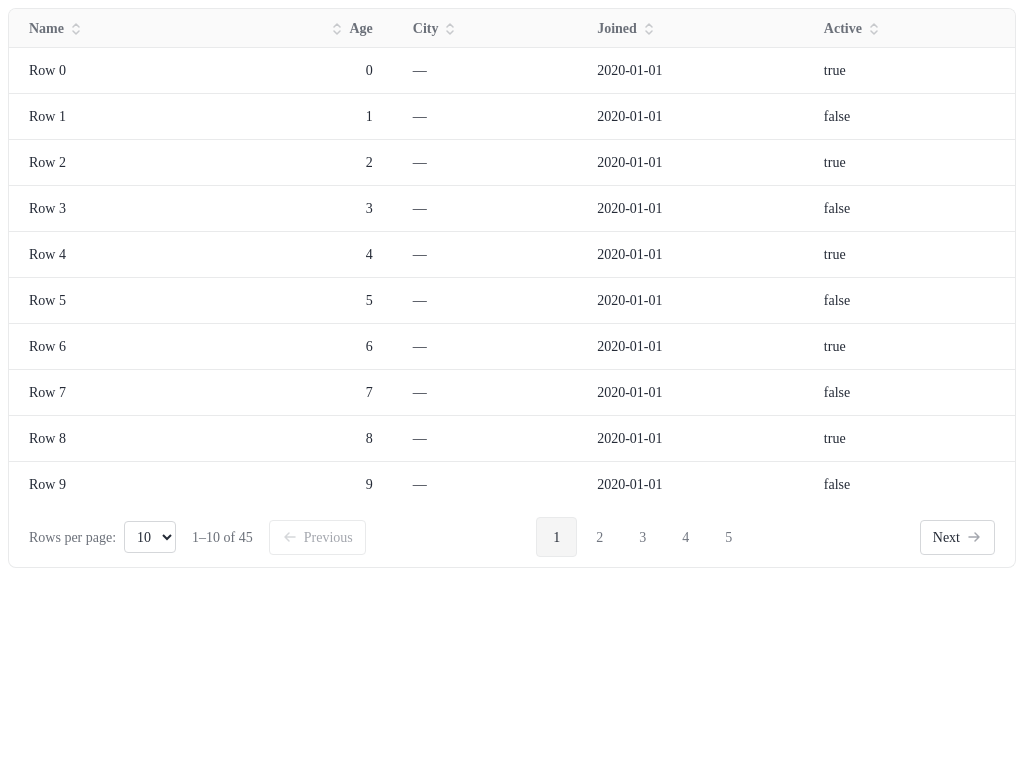
Test case: pagination controls › the page-size selector changes the page size and keeps the row range honest
Expected: the text "1–10 of 45" is shown, 192,527 -> 253,548
Select "25" in the dropdown labelled "Rows per page:" at (150, 537), box 124,521 -> 176,553
(page scrolled)
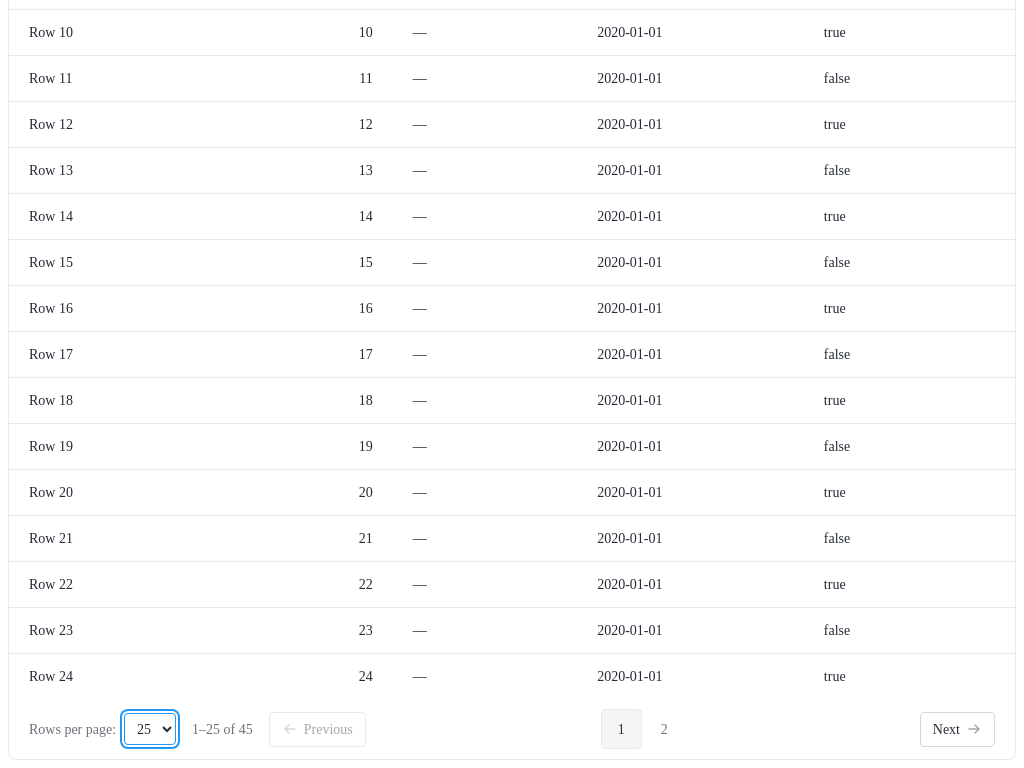
Expected: the text "1–25 of 45" is shown, 192,719 -> 253,740
